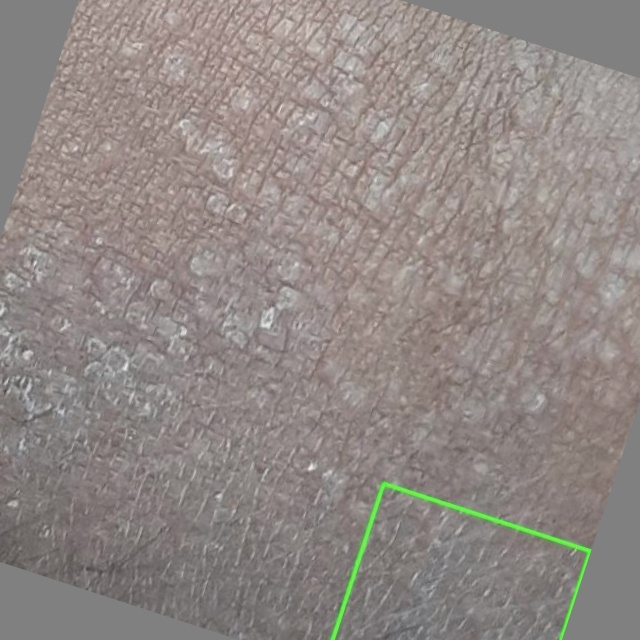Atopic Dermatitis: (332, 483, 590, 639)
